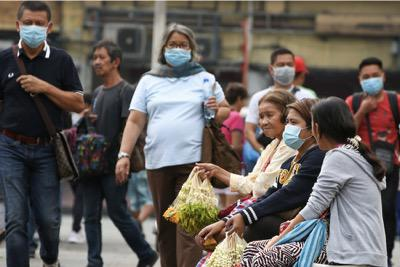with_mask: (19, 17, 47, 51), (282, 116, 306, 152), (162, 40, 190, 68), (359, 72, 383, 97), (271, 61, 295, 86)
without_mask: (257, 110, 284, 138), (91, 52, 114, 76)
